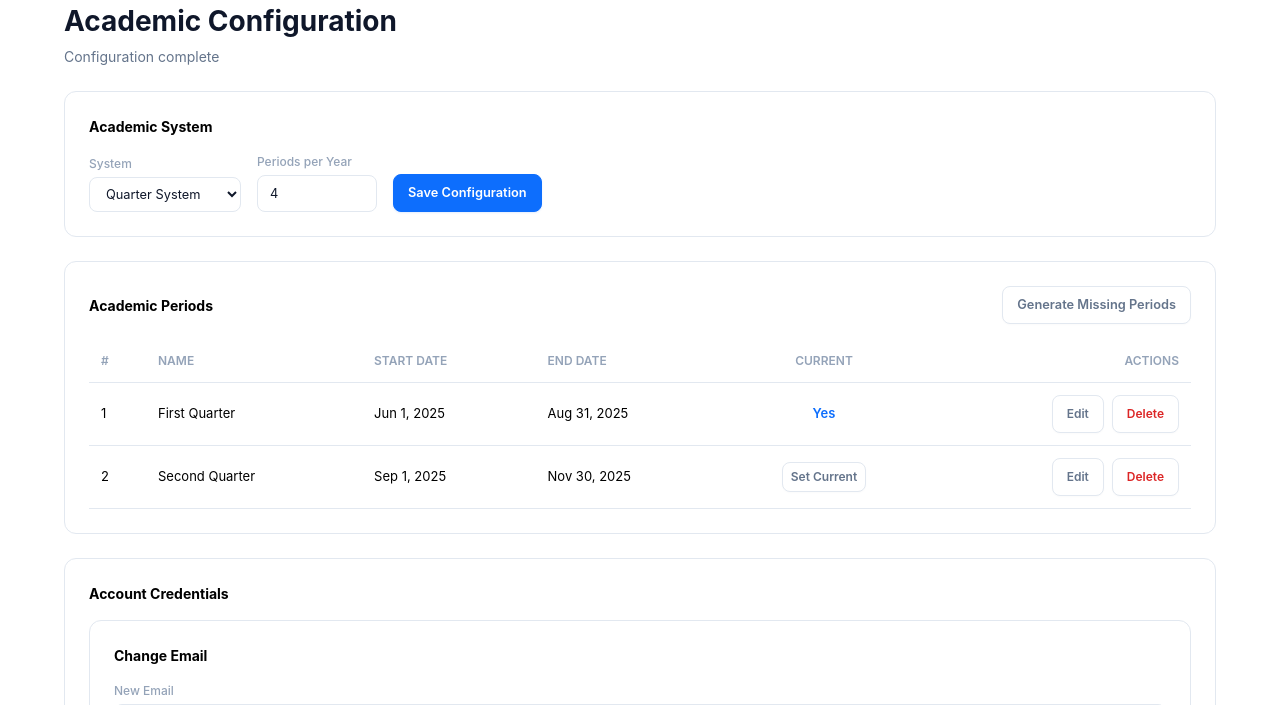
SchoolSettings › generates missing periods and refreshes the period list
Expected: the text "First Quarter" is shown, top-left (146, 383), bottom-right (362, 446)
Click the button "Generate Missing Periods": (1097, 305) top-left (1002, 286), bottom-right (1191, 324)
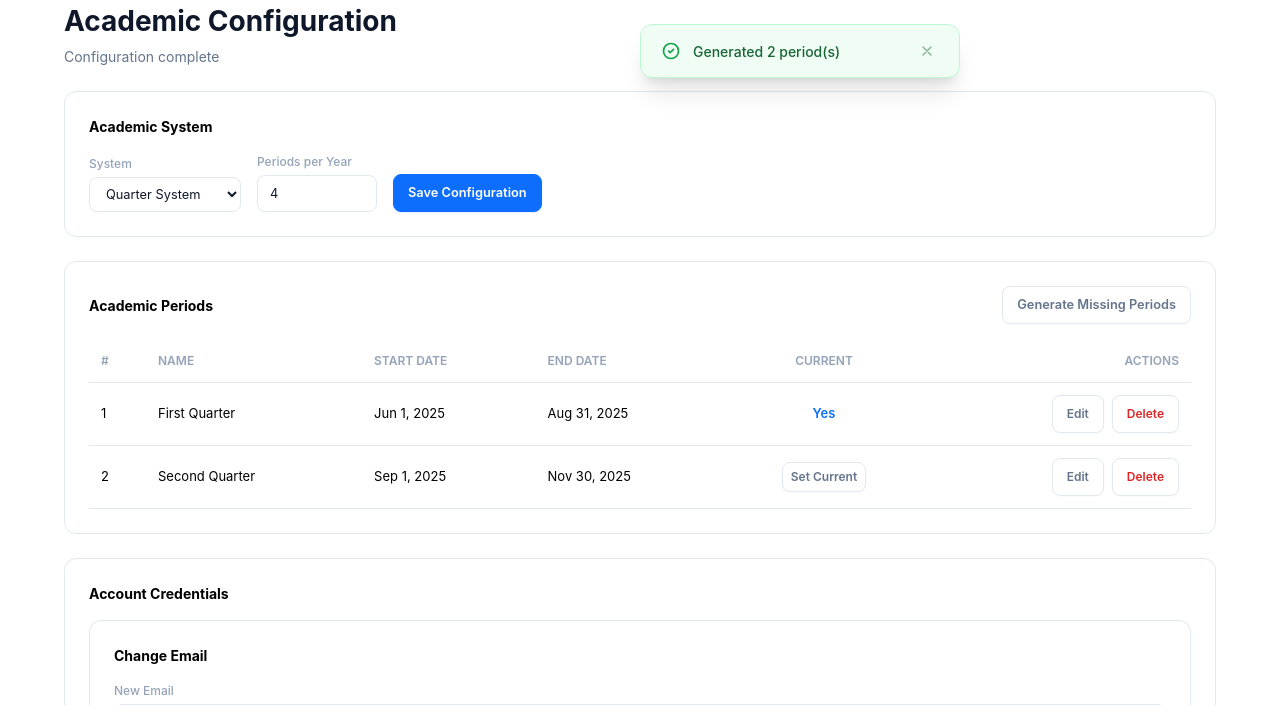
Expected: the text "Generated 2 period(s)" is shown, top-left (693, 42), bottom-right (840, 60)
